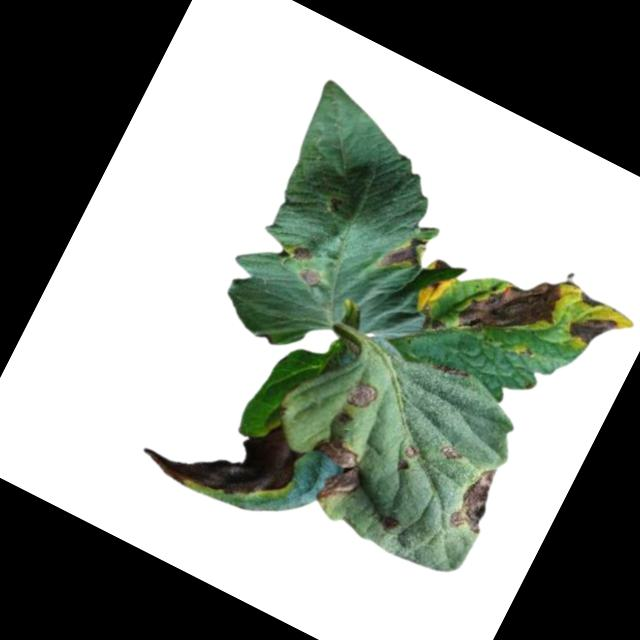Early_blight: (136, 371, 313, 526), (451, 247, 570, 365), (295, 430, 376, 512), (444, 456, 510, 539), (563, 299, 623, 357), (377, 226, 427, 281), (345, 376, 385, 415), (433, 358, 468, 385), (439, 439, 469, 466), (295, 264, 322, 289), (291, 239, 315, 264), (578, 288, 604, 309), (425, 274, 446, 299), (402, 440, 424, 462)
